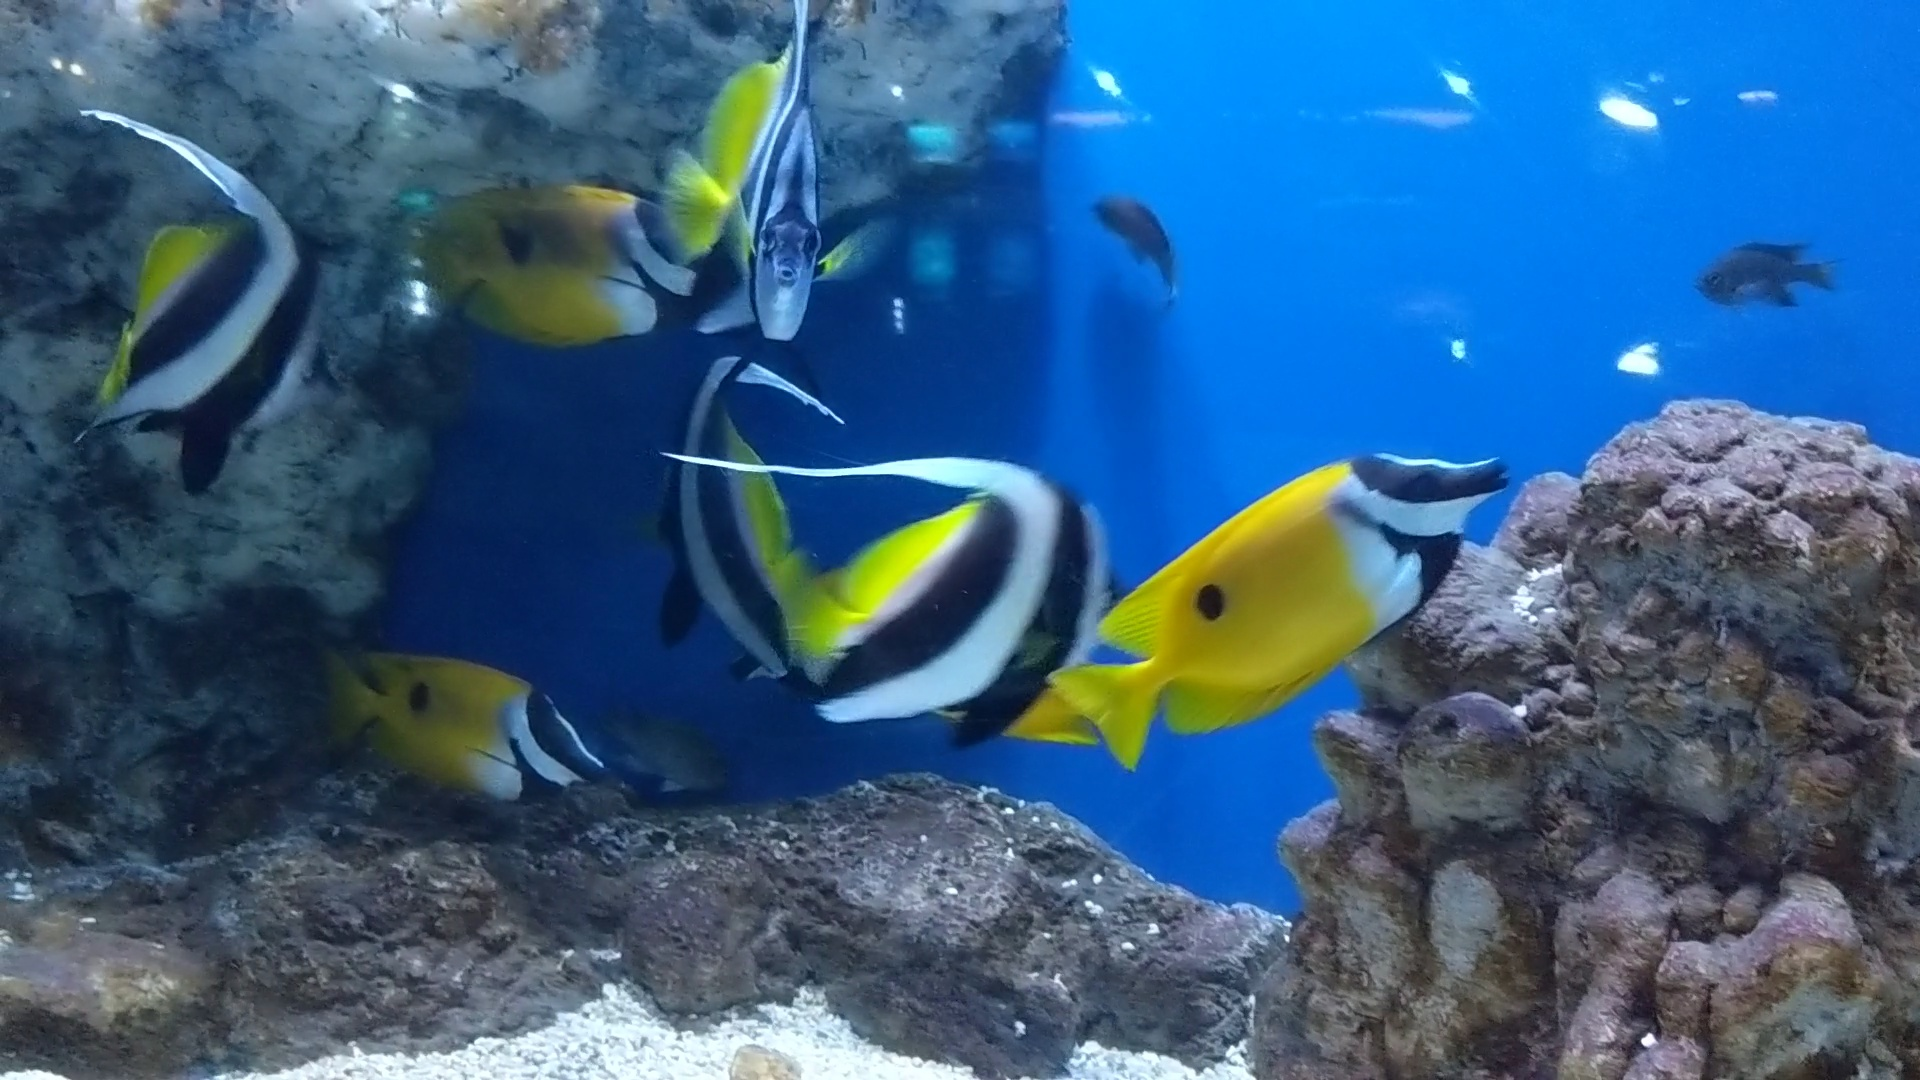moorfish: (49, 73, 367, 502), (684, 406, 1079, 750), (603, 394, 804, 704), (707, 0, 870, 356)
rabbitfish: (1040, 429, 1501, 796), (367, 174, 711, 352), (285, 646, 603, 800)
